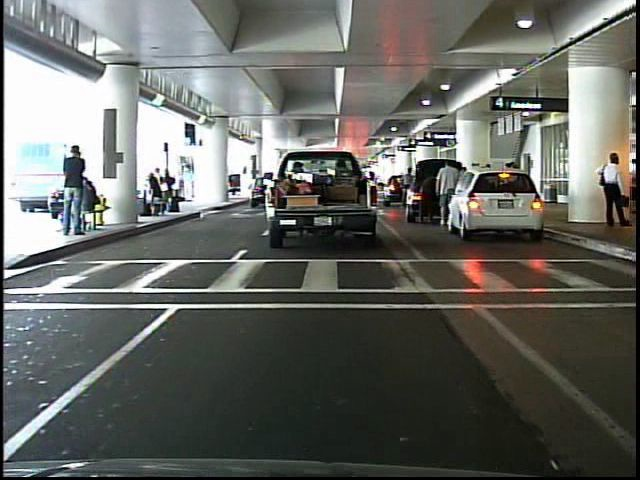person: (594, 146, 632, 232), (62, 139, 94, 238), (433, 158, 462, 231), (181, 162, 198, 204)
